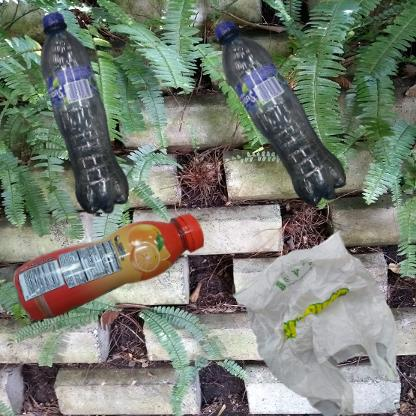bolsa: (213, 213, 416, 416)
botella: (10, 10, 168, 236), (213, 10, 354, 223), (10, 213, 213, 323)
